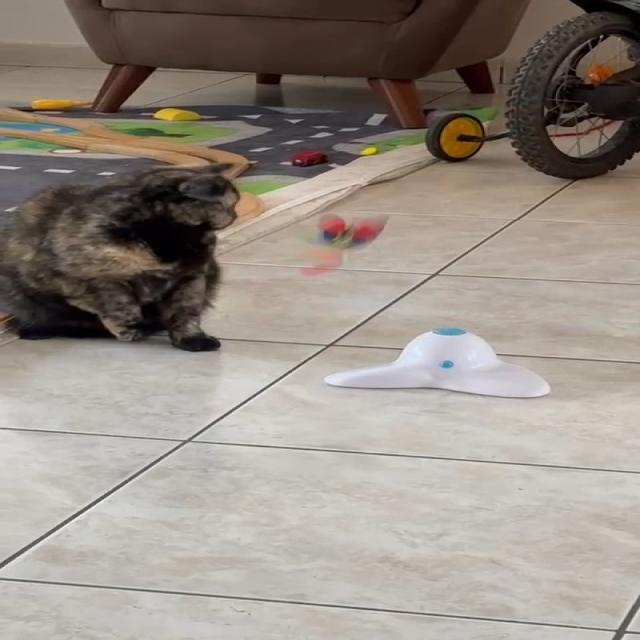authorized: (0, 160, 241, 351)
